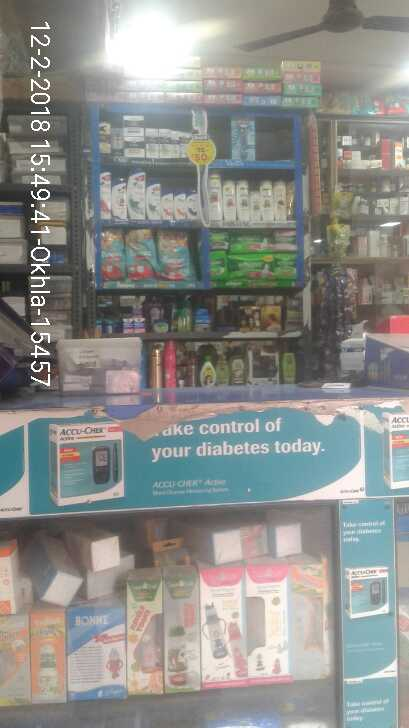venus: (230, 116, 253, 160)
